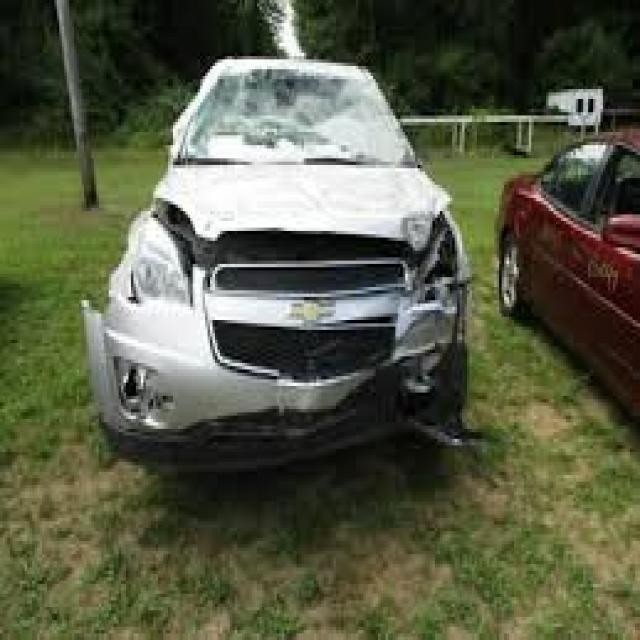damaged-windscreen: (171, 62, 412, 170)
